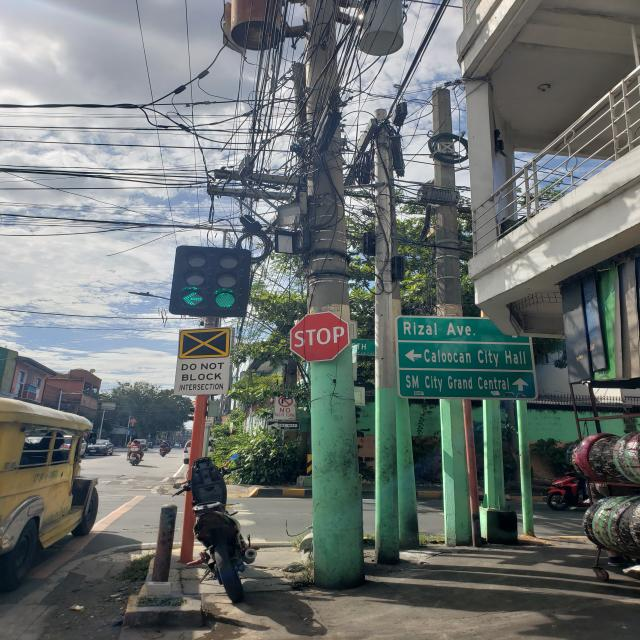stop-sign: (290, 311, 351, 363)
